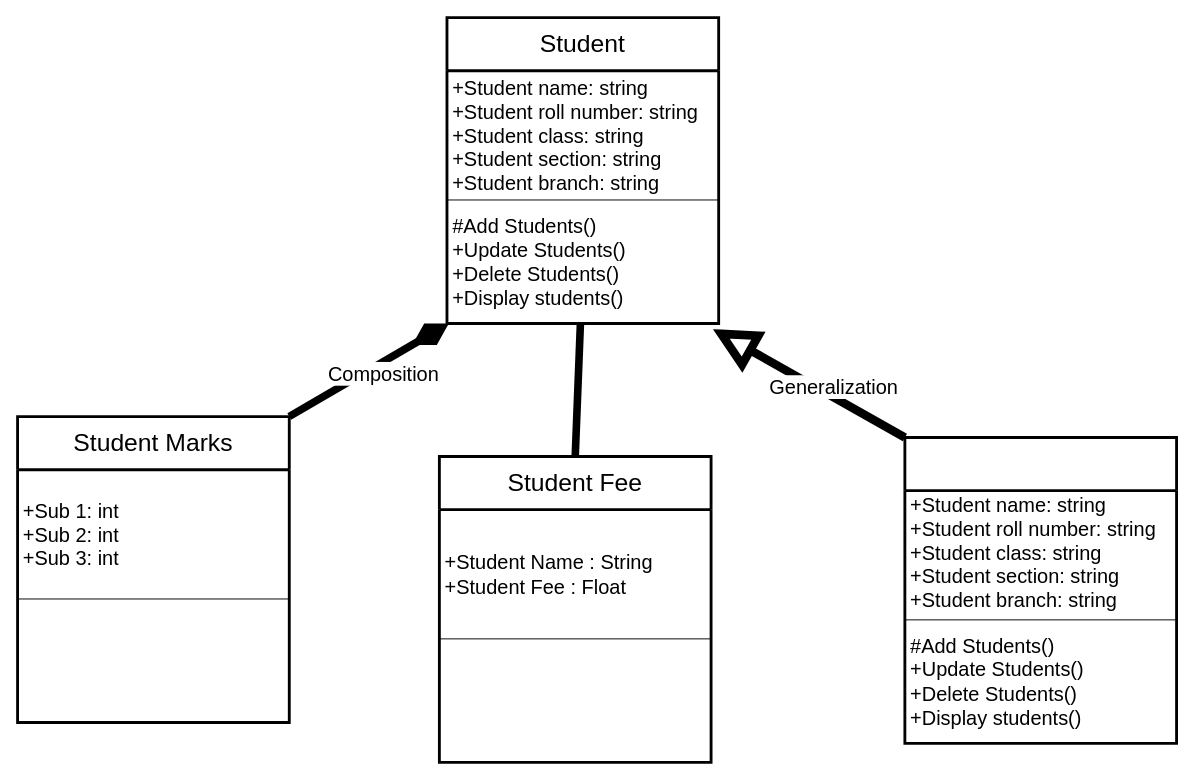
Some shapes in this 1194 by 780 pixel diagram are drawn without their labels. Each missing label, with the box of its shape:
+Add Sub() +Update sub() +Display sub() +Delete sub(): (17, 598, 289, 722)
Student Placement: (903, 436, 1178, 744)
